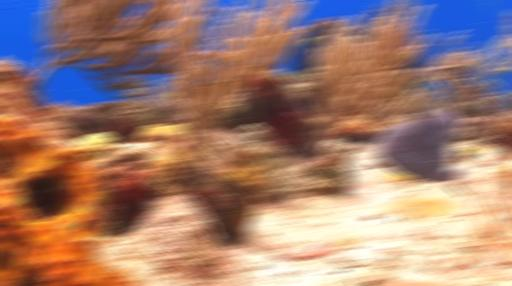Fish: (282, 70, 319, 84), (463, 147, 486, 158), (301, 36, 316, 44), (482, 80, 499, 87), (483, 1, 494, 8), (460, 77, 473, 81)
